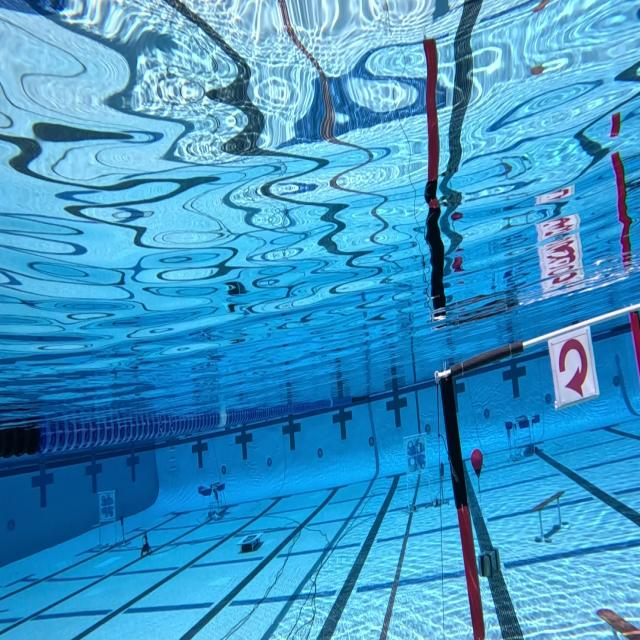red_side: (550, 329, 598, 404)
